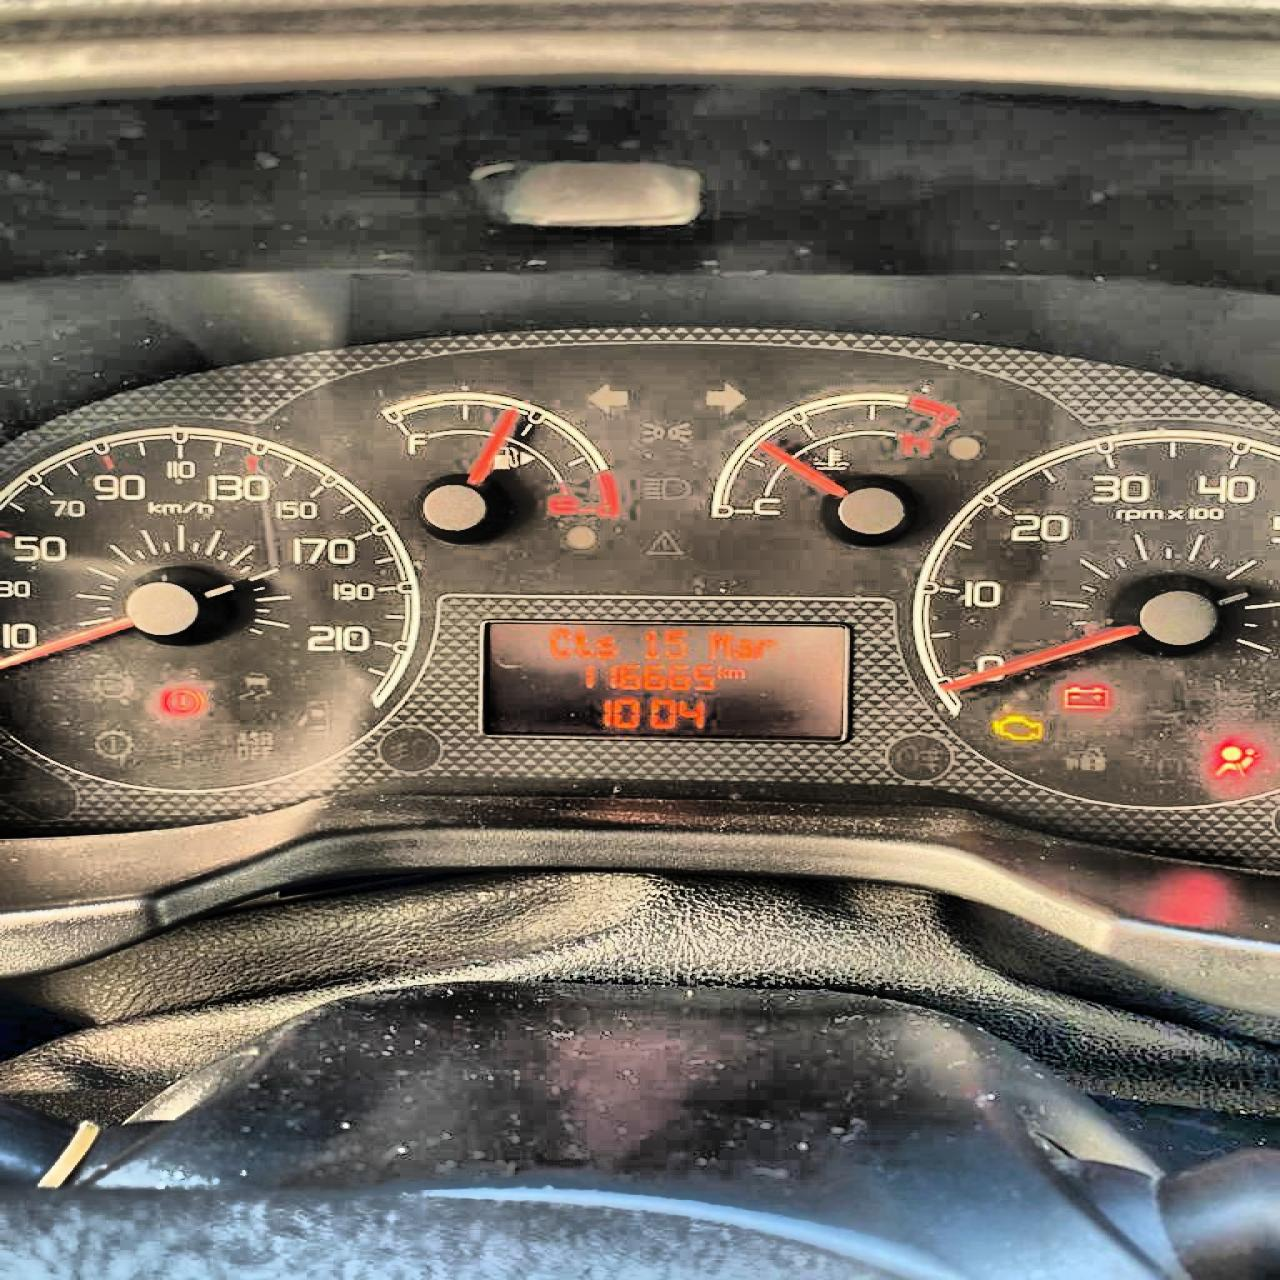0: (648, 697, 675, 728), (612, 697, 639, 727)
1: (644, 629, 659, 659), (601, 699, 612, 727), (606, 663, 617, 688), (584, 663, 593, 688)
4: (676, 699, 703, 729)
5: (661, 629, 687, 659), (690, 663, 715, 690)
6: (641, 663, 666, 690), (667, 663, 690, 690), (617, 662, 640, 688)
X: (707, 629, 730, 659), (572, 626, 593, 658), (549, 627, 570, 658), (593, 635, 617, 658), (754, 638, 775, 659), (731, 639, 754, 659), (727, 669, 745, 679), (715, 663, 727, 678)
odometer: (477, 618, 851, 743)
